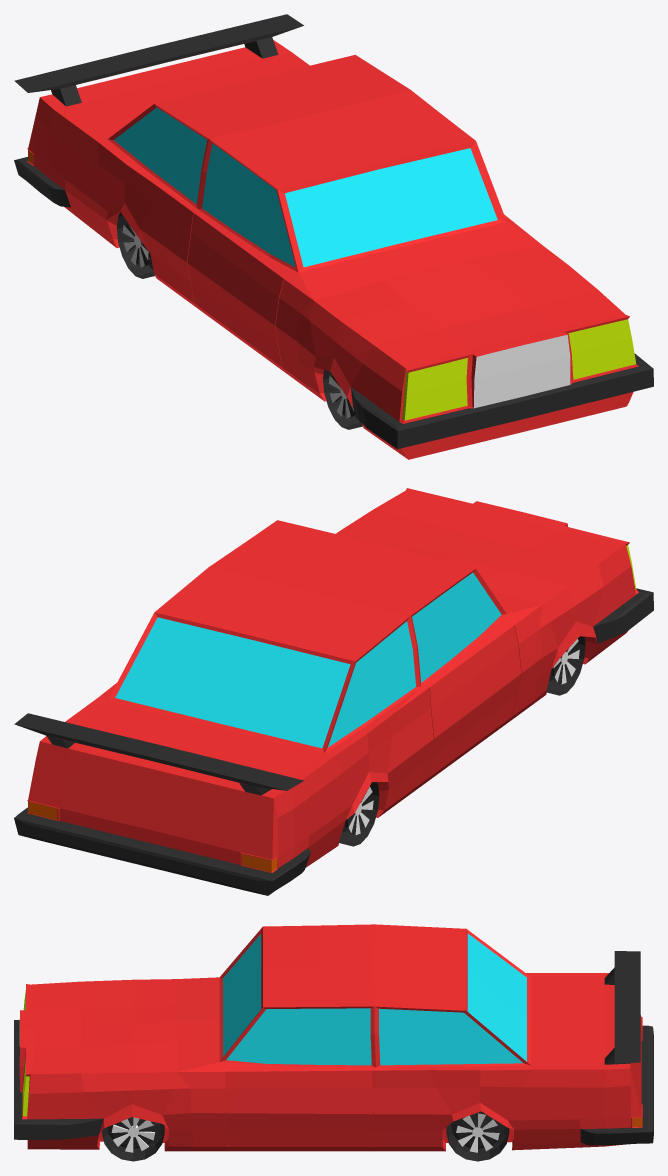
File: Volvo245.fbx
3 views of the same model, one above another, from view 1: azimuth 30°, elevation 25°; view 2: azimuth 150°, elevation 25°; view 3: azimuth 270°, elevation 25° (orthographic). The views are drawn at different scales.
Parts seen in each view (by area): view 1: Car, TBR, TFR; view 2: Car, TBR, TFR; view 3: Car, TBL, TFL.
Boxes of the visible parts, x1=… form: Car: x1=14, y1=14, x2=653, y2=459; TBR: x1=116, y1=212, x2=154, y2=278; TFR: x1=323, y1=370, x2=362, y2=429; Car: x1=14, y1=488, x2=653, y2=895; TBR: x1=339, y1=782, x2=379, y2=846; TFR: x1=546, y1=636, x2=585, y2=695; Car: x1=14, y1=924, x2=653, y2=1151; TBL: x1=446, y1=1111, x2=509, y2=1161; TFL: x1=102, y1=1117, x2=164, y2=1161.
Size of the model in its own units: 851 by 528 by 2041.
